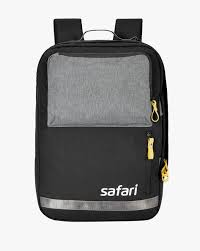backpack: (34, 17, 169, 221)
